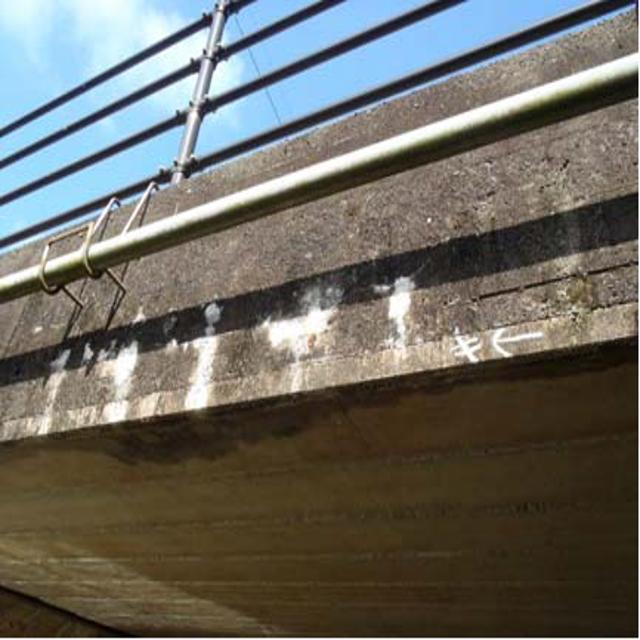freelime: (60, 253, 421, 437)
